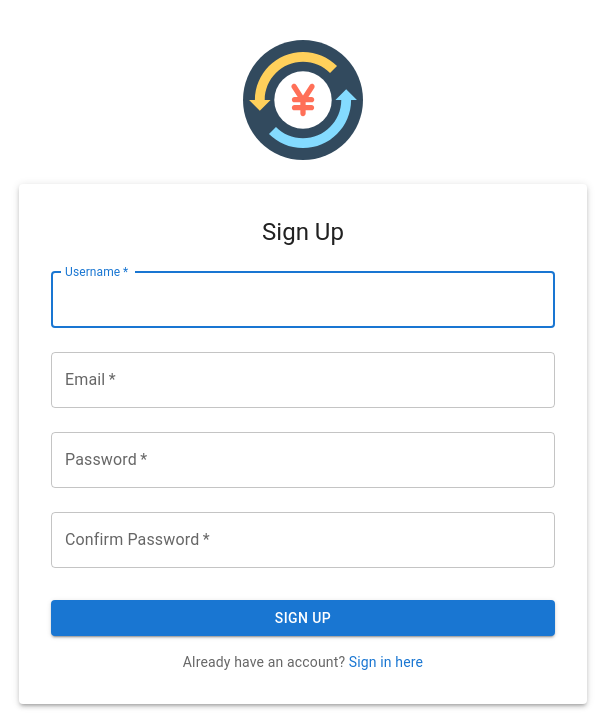
Test: RegisterPage › shows validation error for short password
Type "testuser" into the field labelled "Username *".
click(303, 300); type("testuser")  # box [51,272,555,328]
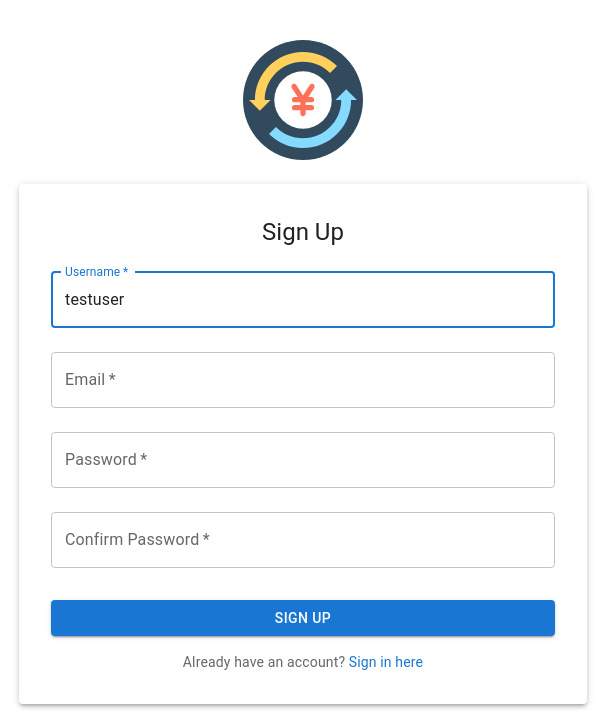
Type "test@example.com" into the field labelled "Email *".
click(303, 380); type("test@example.com")  # box [51,352,555,408]
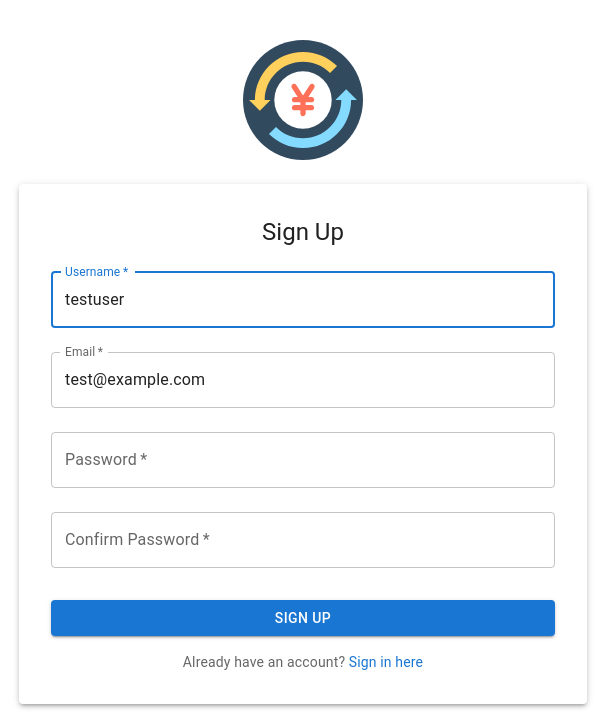
Type "short" into the password field labelled "Password *".
click(303, 460); type("short")  # box [51,432,555,488]
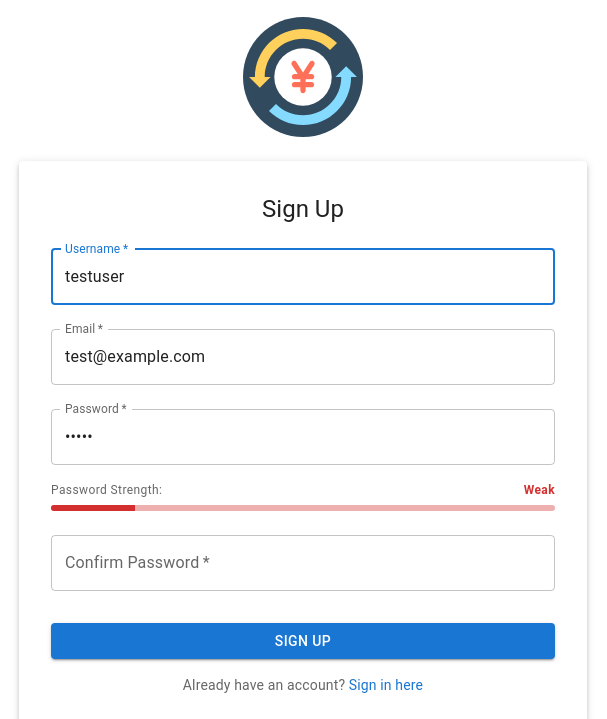
Click the button "Sign Up".
click(303, 641)  # box [51,623,555,659]
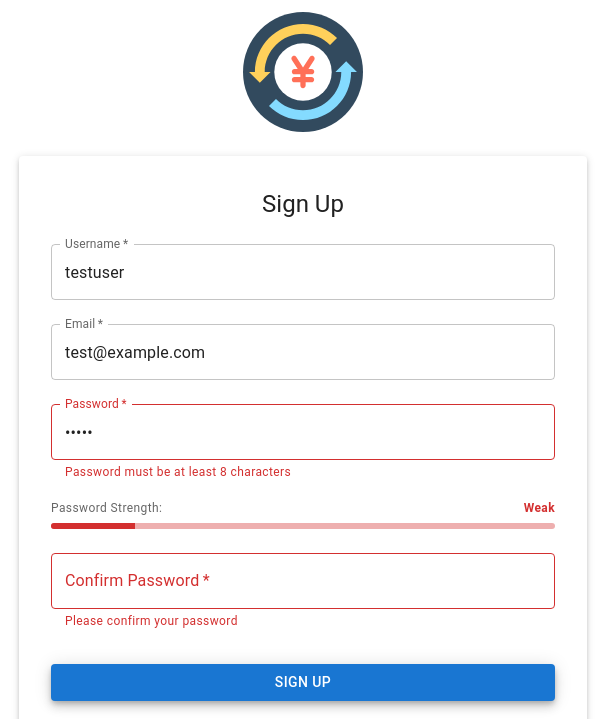
Now the text "Password must be at least 8 characters" is shown, box [65,465,291,479]
